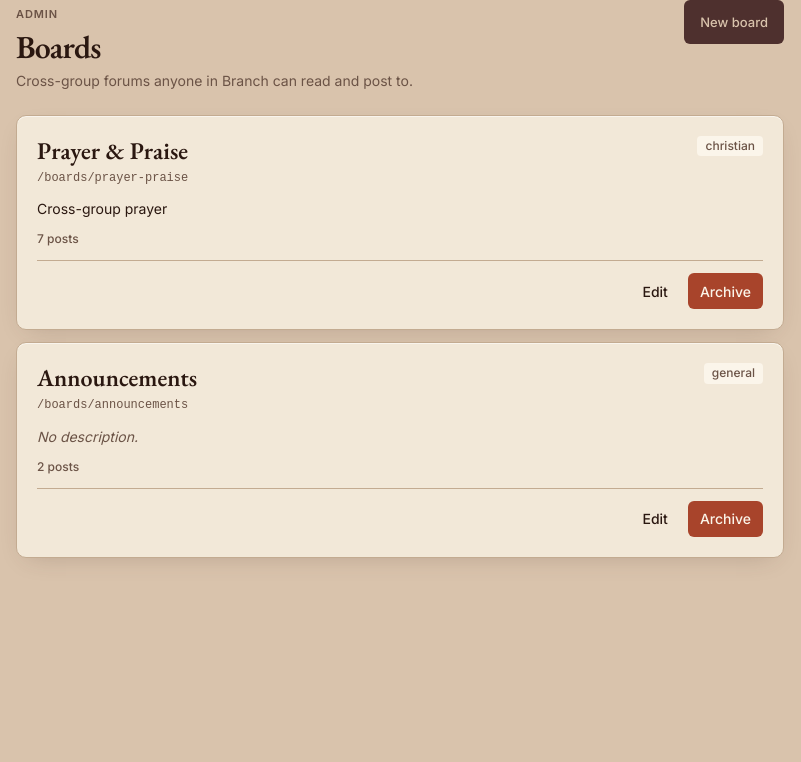
Test: AdminBoardsPage edit › opens inline edit form on Edit click and pre-populates fields
Check: the link "Prayer & Praise" is shown, box 37,136 -> 188,166
Click the button "Edit" below "christian" at (655, 291), box 630,273 -> 680,309
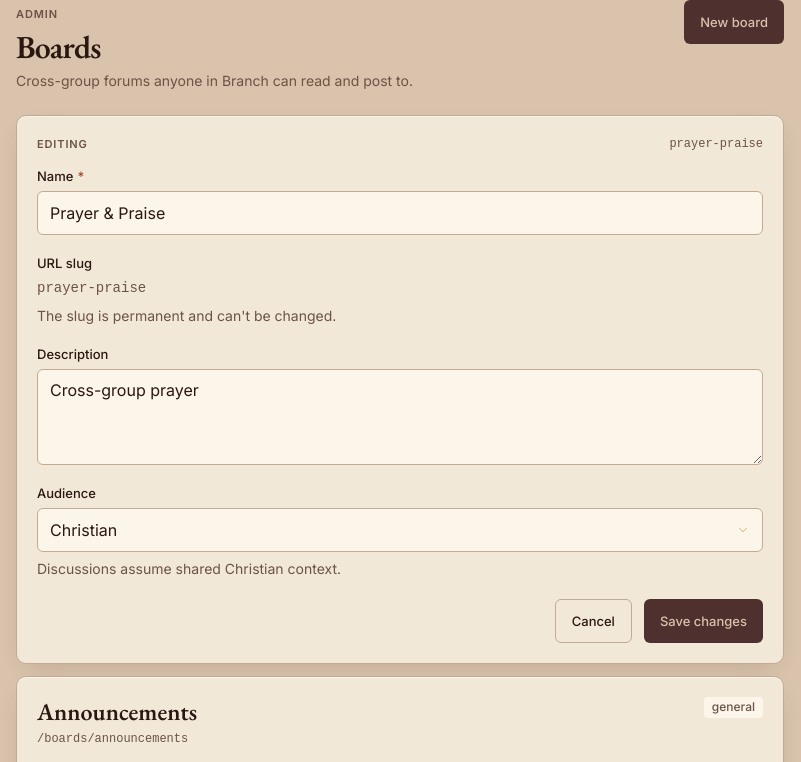
Check: the field labelled "Name*" holds "Prayer & Praise", box 37,191 -> 763,235
Check: the button "Save changes" is shown, box 644,599 -> 763,643
Check: the button "Cancel" is shown, box 555,599 -> 632,643
